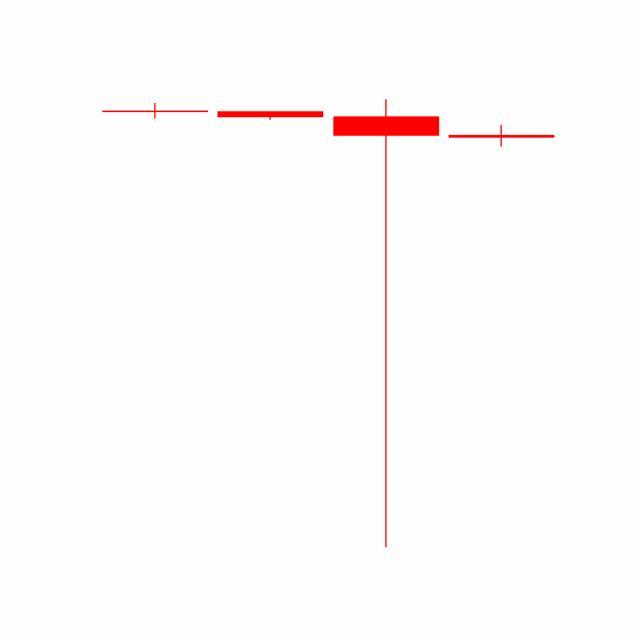Spinning Top: (444, 125, 560, 148)
